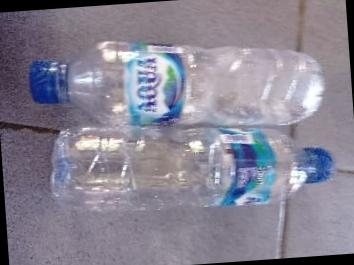Plastik: (29, 41, 324, 125), (51, 129, 279, 212), (287, 147, 333, 191)
